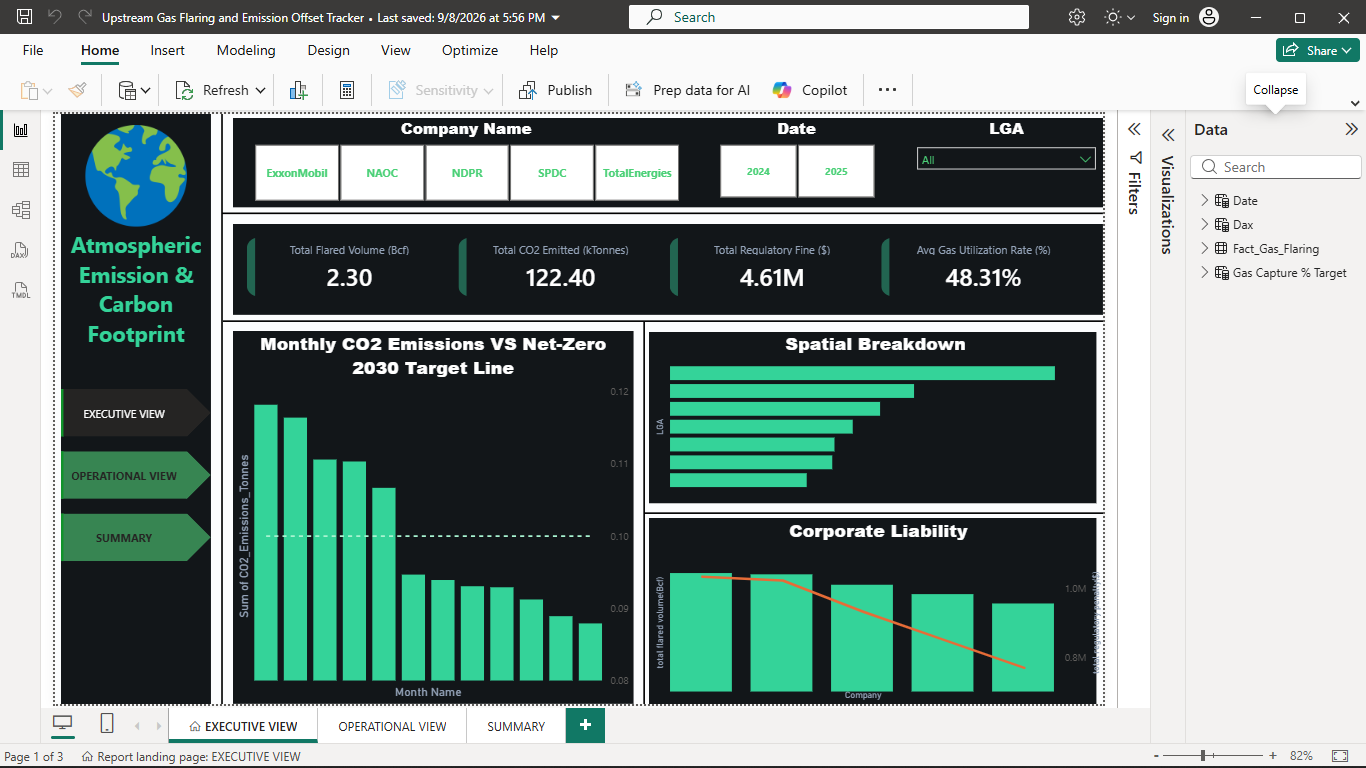

What the dashboard file says about the page in this screenshot:
{"tool":"powerbi","page":{"name":"EXECUTIVE VIEW","canvas":[1280,720],"ordinal":0},"visuals":[{"type":"shape","box":[6.7,0,183.1,720.6],"z":0},{"type":"shape","box":[217.1,4.5,1063.3,109.2],"z":1000},{"type":"shape","box":[216.7,134.4,1061.6,110.9],"z":2000},{"type":"shape","box":[203.3,109.2,1075.1,25.2],"z":3000},{"type":"shape","box":[189.8,0,26.9,720.6],"z":4000},{"type":"shape","box":[216.7,265.4,488.8,455.2],"z":5000},{"type":"shape","box":[205.1,240.9,1074.9,24.8],"z":6000},{"type":"shape","box":[706.1,253.2,24.8,466.6],"z":7000},{"type":"shape","box":[718.5,474.8,561.5,24.8],"z":8000},{"type":"shape","box":[725.3,265.6,546.4,209.2],"z":9000},{"type":"shape","box":[725.3,492.7,546.4,227.1],"z":10000},{"type":"lineStackedColumnComboChart","title":"Monthly CO2 Emissions VS Net-Zero 2030 Target Line","fields":{"Category":["Date.Month Name"],"Y":["Sum(Fact_Gas_Flaring.CO2_Emissions_Tonnes)"],"Y2":["Gas Capture % Target.Gas Capture % Target Value"]},"box":[217.1,264.6,488.8,453.5],"z":11000},{"type":"lineClusteredColumnComboChart","title":"Corporate Liability","fields":{"Category":["Fact_Gas_Flaring.Company"],"Y":["Dax.total flared volume(Bcf)"],"Y2":["Dax.total regulatory penalty($)"]},"box":[728.2,493,552.7,226.8],"z":12000},{"type":"clusteredBarChart","title":"Spatial Breakdown ","fields":{"Category":["Fact_Gas_Flaring.LGA"],"Y":["Dax.total flared volume(Bcf)"]},"box":[728.2,264.6,545.9,210],"z":13000},{"type":"textbox","box":[6.9,0,183.1,308.3],"z":14000},{"type":"pageNavigator","box":[6.9,335.8,183.1,212],"z":15000},{"type":"slicer","title":"Company Name","fields":{"Values":["Fact_Gas_Flaring.Company"]},"box":[218.8,4.1,567.1,108.7],"z":16000},{"type":"cardVisual","fields":{"Data":["Dax.total flared volume(Bcf)","Dax.total CO2 emitted(kTonnes)","Dax.total regulatory penalty($)","Dax.Avg Gas Utilization Rate (%)"]},"box":[217.3,134.7,1060.7,105.2],"z":17000},{"type":"slicer","title":"Date","fields":{"Values":["Date.Year"]},"box":[785.9,4.1,238.1,104.6],"z":18000},{"type":"slicer","title":"LGA","fields":{"Values":["Fact_Gas_Flaring.LGA"]},"box":[1041.9,4.1,238.1,104.6],"z":19000},{"type":"image","box":[27.5,13.8,141.8,123.9],"z":20000}]}

Visuals, with their boxes on the page's 1280x720 design canvas (x1, y1, x2, y2). These are canvas units, not pixel positions in the 1366x768 screenshot, which may show the page scaled, cropped or inside an application window:
shape: (7, 0, 190, 721)
shape: (217, 4, 1280, 114)
shape: (217, 134, 1278, 245)
shape: (203, 109, 1278, 134)
shape: (190, 0, 217, 721)
shape: (217, 265, 706, 721)
shape: (205, 241, 1280, 266)
shape: (706, 253, 731, 720)
shape: (718, 475, 1280, 500)
shape: (725, 266, 1272, 475)
shape: (725, 493, 1272, 720)
"Monthly CO2 Emissions VS Net-Zero 2030 Target Line" lineStackedColumnComboChart: (217, 265, 706, 718)
"Corporate Liability" lineClusteredColumnComboChart: (728, 493, 1281, 720)
"Spatial Breakdown " clusteredBarChart: (728, 265, 1274, 475)
textbox: (7, 0, 190, 308)
pageNavigator: (7, 336, 190, 548)
"Company Name" slicer: (219, 4, 786, 113)
cardVisual - Dax.total flared volume(Bcf) x Dax.total CO2 emitted(kTonnes): (217, 135, 1278, 240)
"Date" slicer: (786, 4, 1024, 109)
"LGA" slicer: (1042, 4, 1280, 109)
image: (28, 14, 169, 138)
